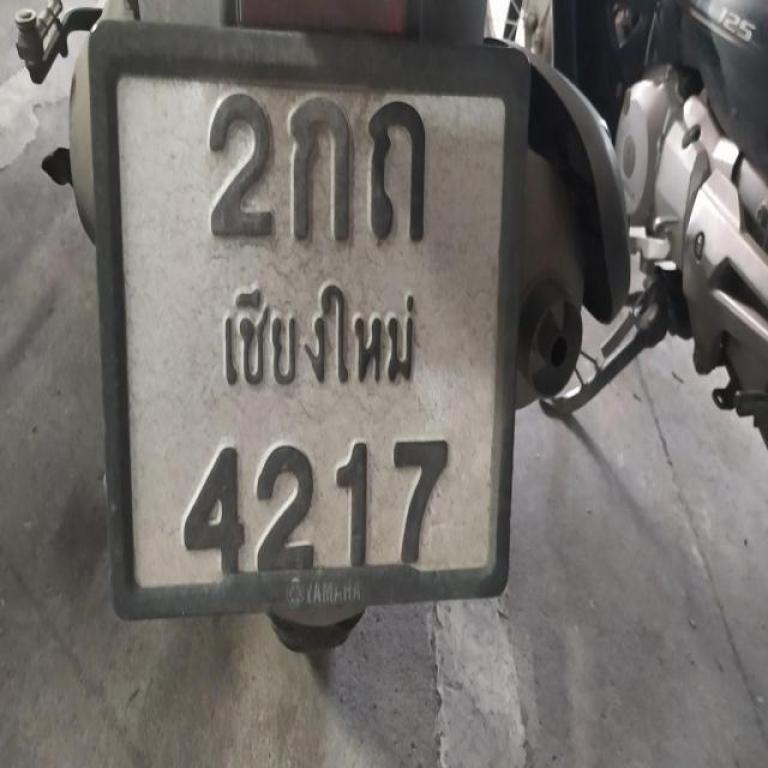license plate: (84, 12, 526, 631)
